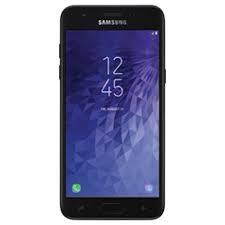samsung: (54, 1, 167, 225)
